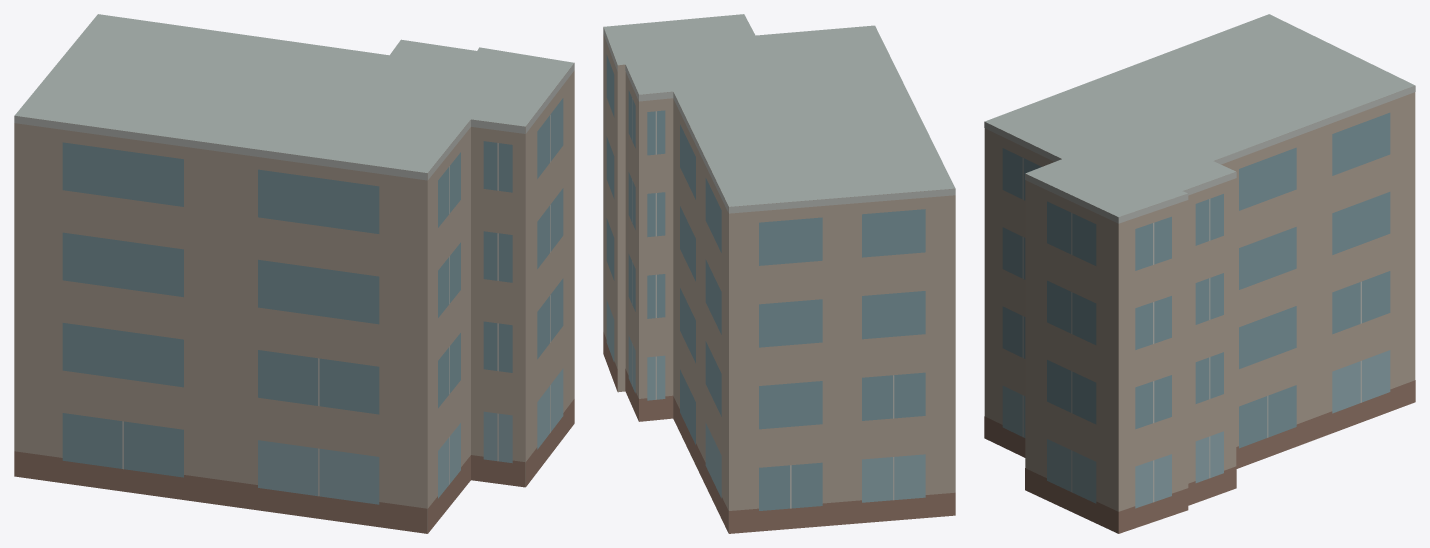
Rendered from survey-upis-32560836.glb.
3 renders of one model, left to right at view 1: azimuth 30°, elevation 25°; view 2: azimuth 150°, elevation 25°; view 3: azimuth 270°, elevation 25°, orthographic. The views are drawn at different scales.
Parts seen in each view (by area): view 1: survey-upis-32560836.tmp; view 2: survey-upis-32560836.tmp; view 3: survey-upis-32560836.tmp.
Boxes of the visible parts, <box> form: survey-upis-32560836.tmp: <box>14,14,574,533</box>; survey-upis-32560836.tmp: <box>603,14,955,533</box>; survey-upis-32560836.tmp: <box>984,14,1415,533</box>.
Bounding box in the file's own units: 16.38 × 11.9 × 14.69.
